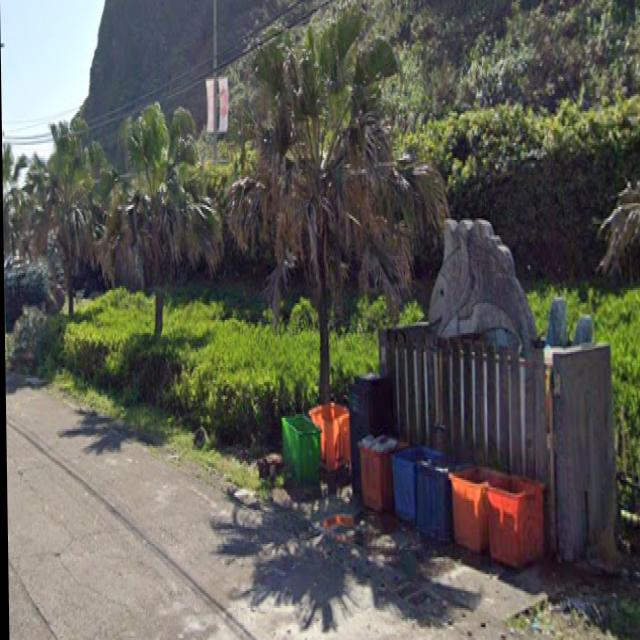pollute: (273, 363, 548, 580)
